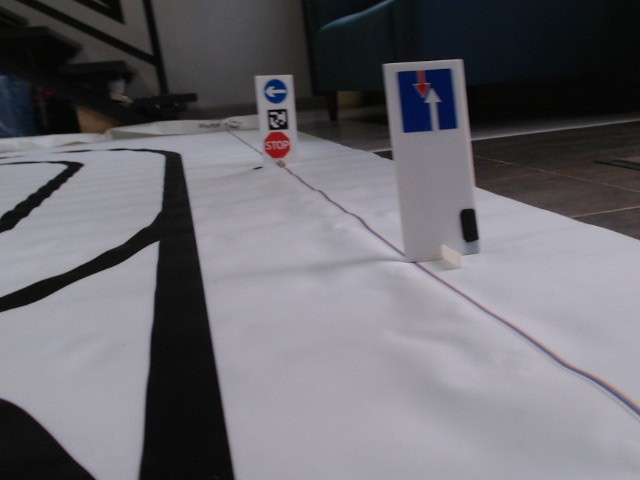Stop: (263, 131, 291, 158)
priority_movement: (394, 68, 459, 132)
